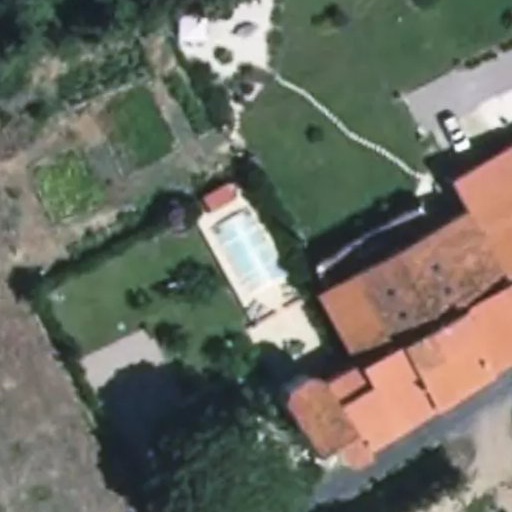pool: (216, 214, 278, 288)
